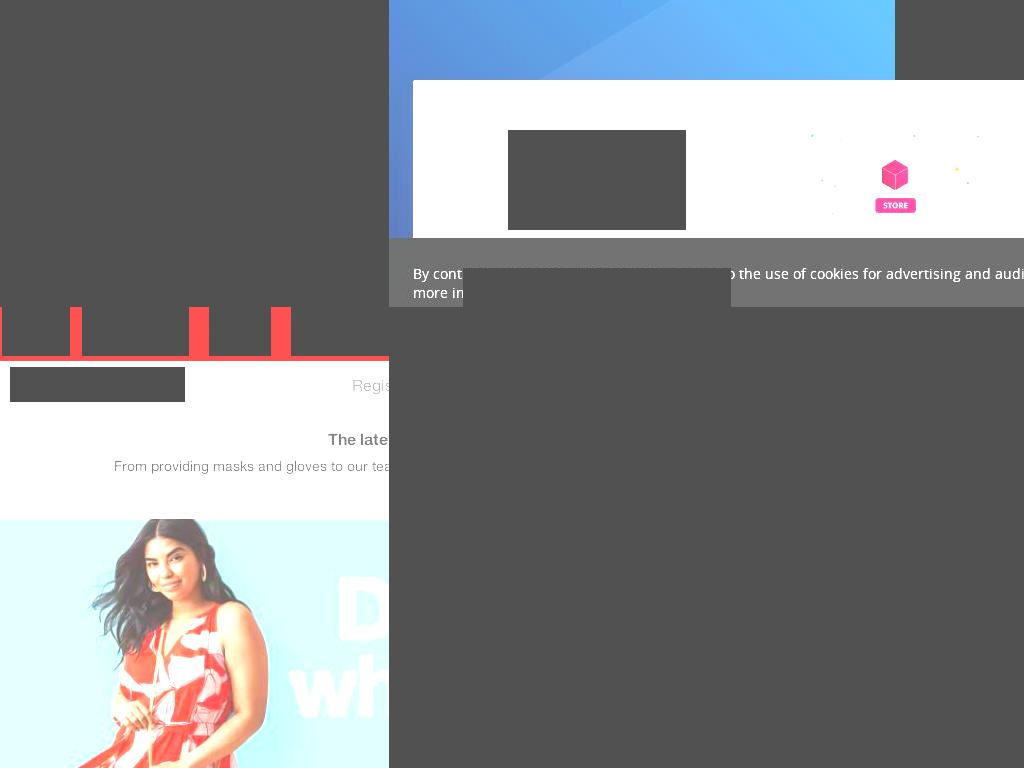button: (0, 518, 389, 768), (0, 409, 389, 503), (629, 674, 901, 726), (175, 98, 389, 150), (10, 367, 185, 402), (82, 307, 189, 356), (291, 307, 389, 356), (175, 180, 287, 220), (296, 180, 389, 220), (2, 307, 70, 356), (209, 307, 271, 356), (344, 366, 389, 403)
heading: (397, 490, 1024, 577), (389, 598, 1024, 630), (175, 0, 389, 78), (463, 268, 731, 307), (761, 268, 1024, 307), (0, 429, 389, 448)
image: (389, 307, 1024, 768), (0, 518, 389, 768), (0, 409, 389, 503), (0, 0, 80, 307), (804, 130, 986, 230), (508, 130, 686, 230), (175, 180, 287, 214), (296, 180, 389, 214), (14, 307, 58, 346), (179, 323, 189, 348), (261, 323, 271, 348), (135, 388, 145, 413)
link: (496, 283, 586, 302)
text: (0, 0, 389, 307), (413, 264, 1024, 302), (114, 456, 389, 474), (291, 311, 389, 336), (82, 311, 175, 336), (11, 382, 131, 400), (11, 367, 99, 383), (99, 367, 181, 383), (209, 311, 257, 336), (586, 283, 590, 302), (181, 372, 184, 379)
